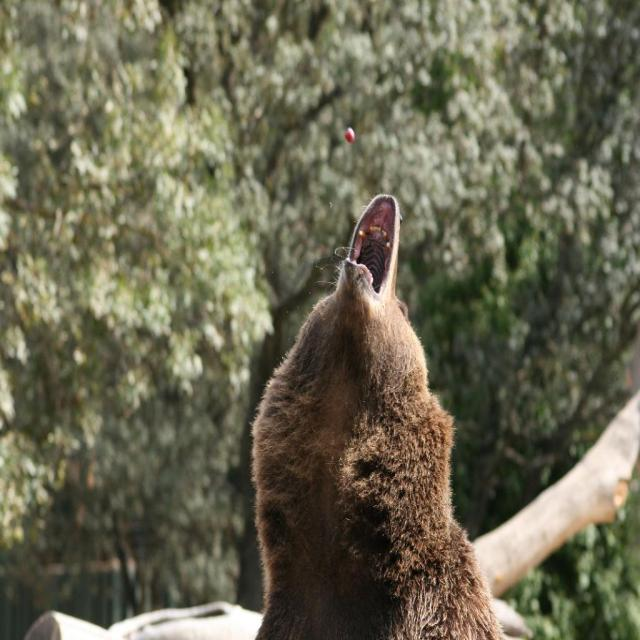Cheetahs: (244, 188, 505, 640)
